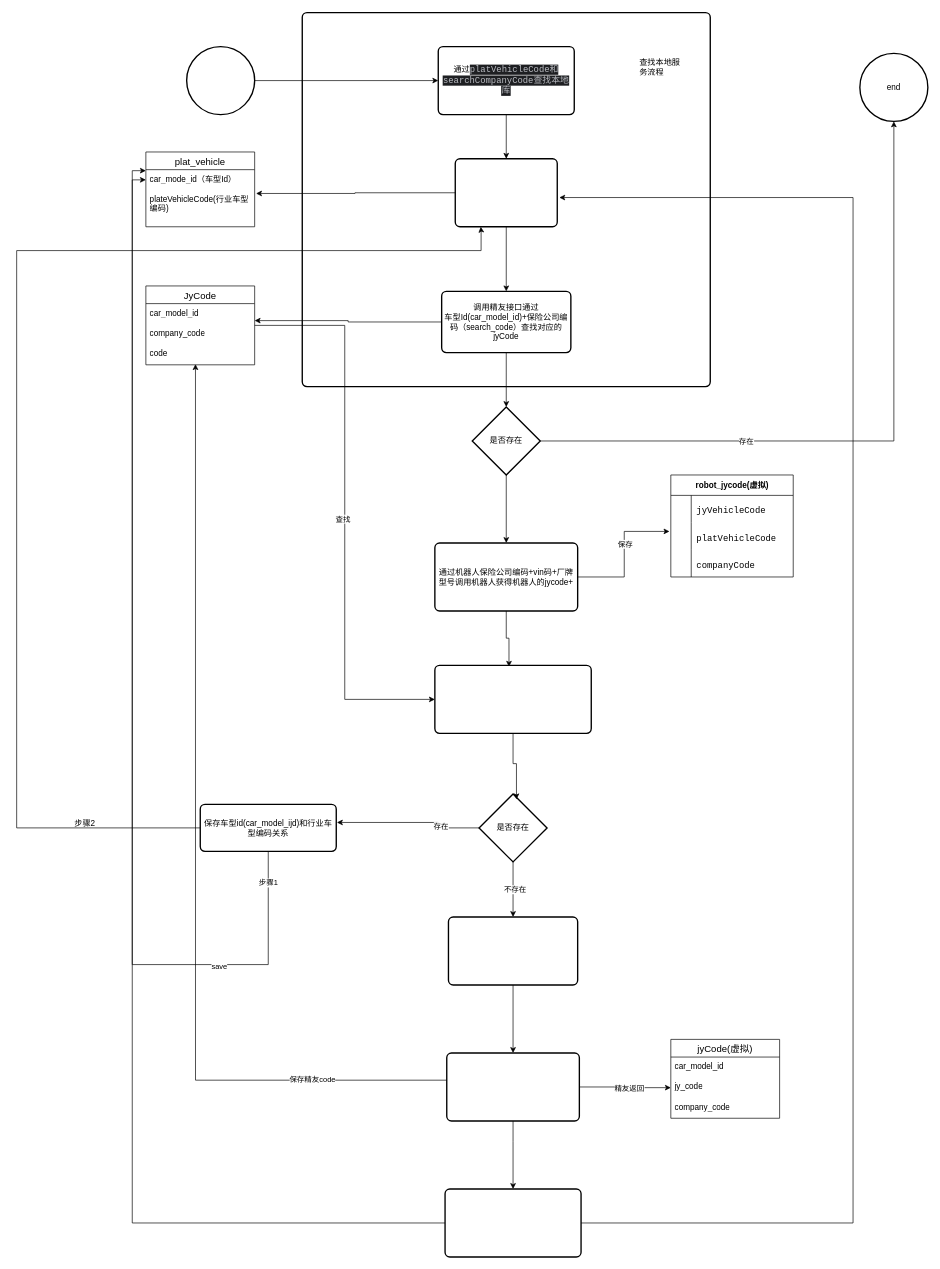
Image size: 940x1269. Some labels were removed from this diagram. The shapes that lost their labels are listed below. From the top down, each one's centre as x and y in pixels, then its label:
the point at 220,80: 开始
the point at 506,192: 通过行业车型编码获得车型Id
the point at 513,699: 通过机器人的精友code+机器人的保司编码查询本地精友库获得carModelId(车型Id)
the point at 512,950: 调用精友接口，通过厂牌型号获得车型Id(car_model_id)
the point at 513,1086: 通过车型Id(car_model_id)+机器人的保司code查找jyCode
the point at 512,1222: 比对机器人的厂牌型号 和精友返回的厂牌型号 关联车型Id和行业车型编码关系
